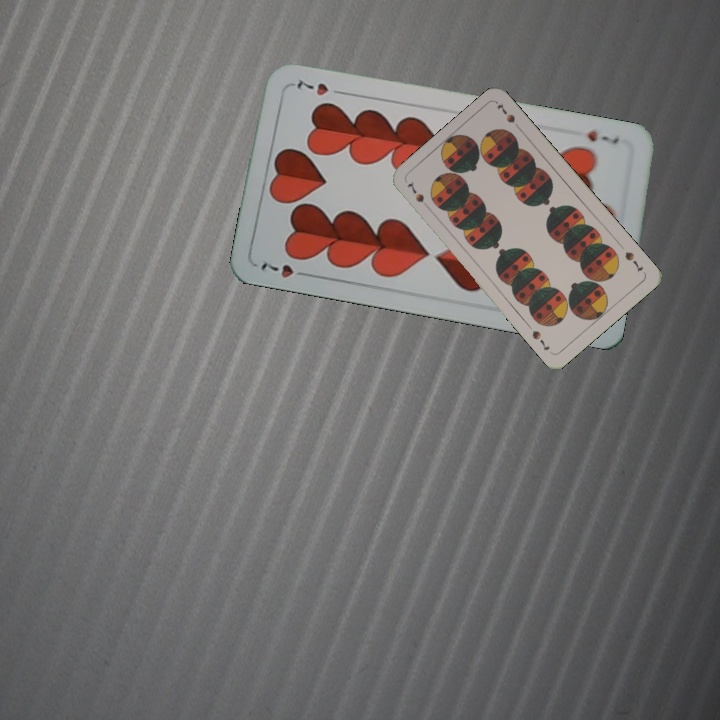H7: (256, 257, 313, 280), (583, 126, 622, 146)
S7: (403, 177, 433, 212), (621, 247, 646, 275)
